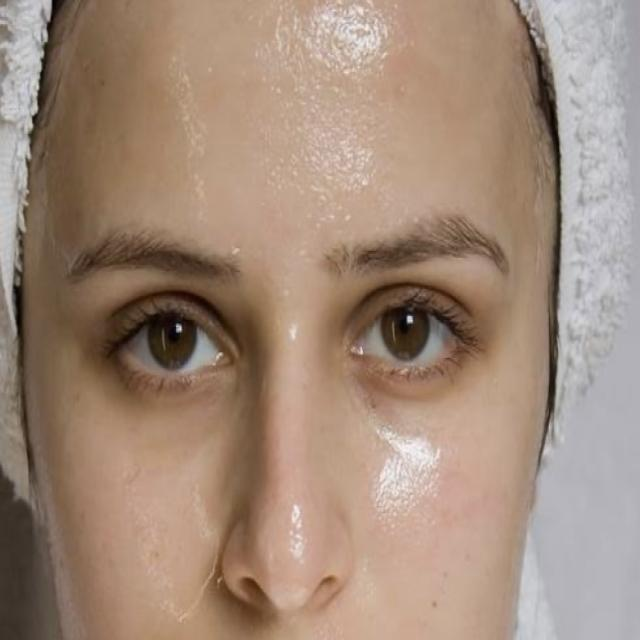Dry-Skin: (92, 411, 281, 613), (174, 77, 408, 216), (387, 397, 480, 622)
